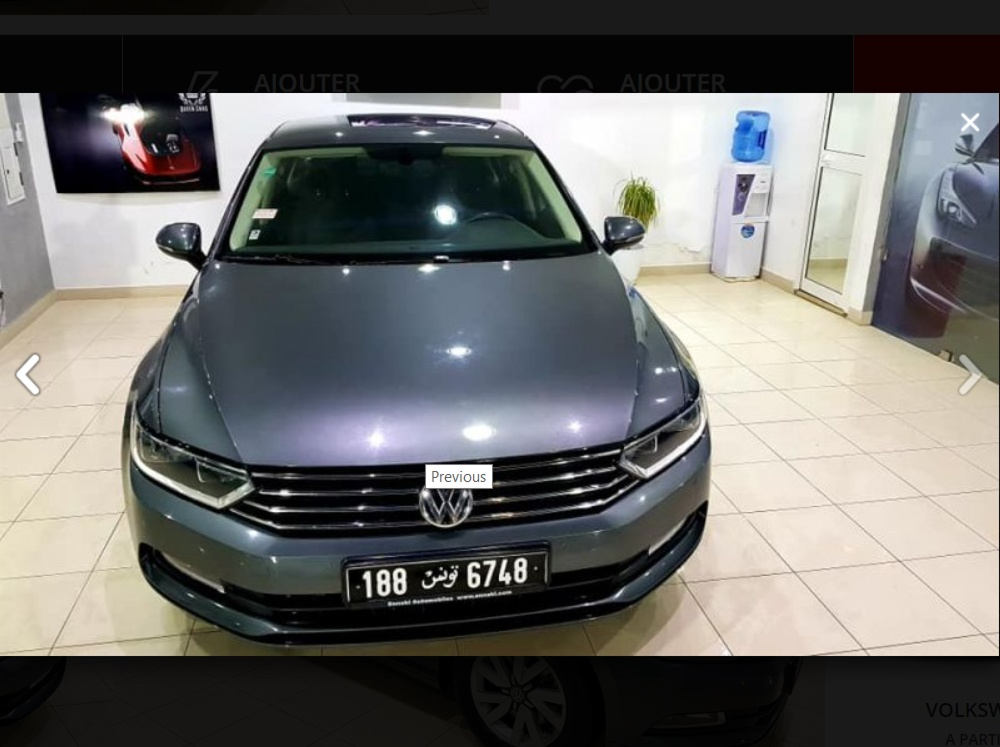LP: (343, 552, 550, 606)
